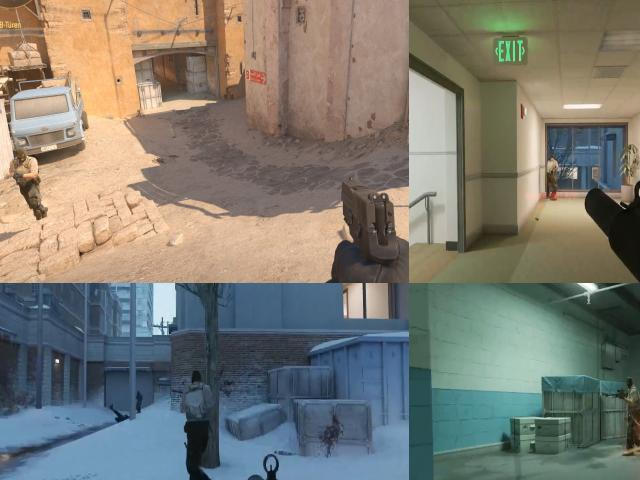CT: (132, 389, 145, 414)
CT-Head: (136, 390, 142, 398)
T: (173, 376, 220, 446), (14, 142, 40, 229), (622, 372, 640, 431), (545, 154, 559, 182)
T-Head: (188, 370, 206, 394), (15, 145, 29, 166), (626, 376, 636, 392), (550, 155, 555, 165)
